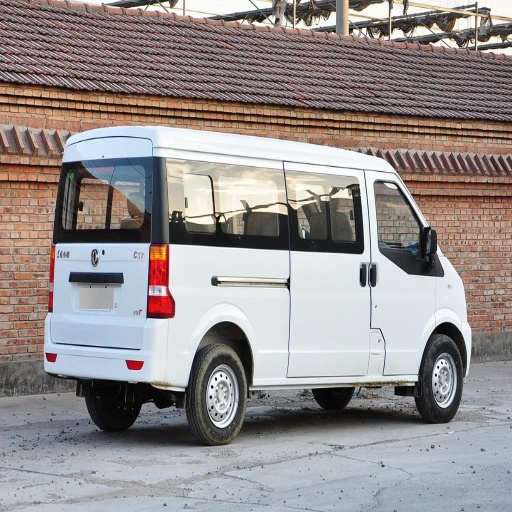back_bumper: (43, 313, 160, 382)
back_right_door: (75, 160, 117, 213)
trunk: (57, 244, 434, 388)
